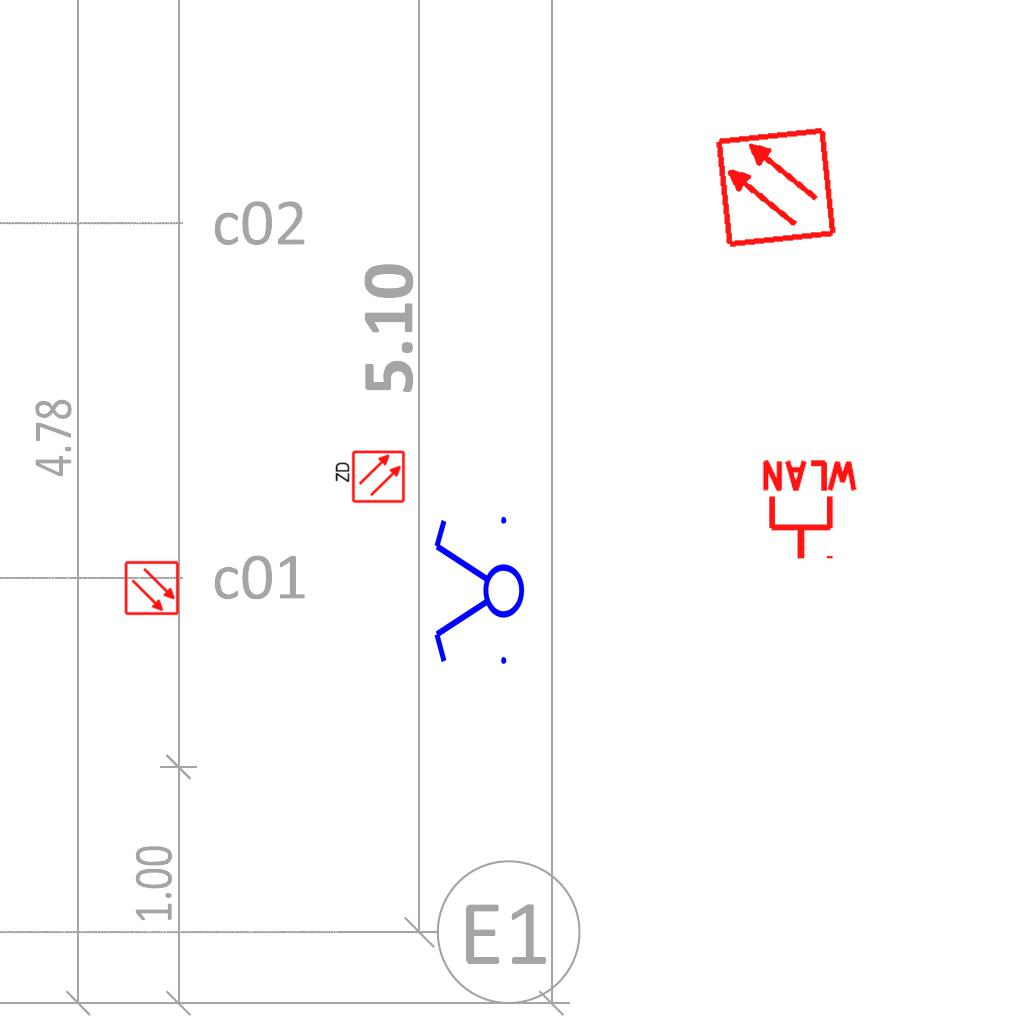RMO_Rauchmelder_optischer: (713, 125, 838, 250), (124, 560, 180, 616)
Serienschalter: (430, 508, 526, 676)
WLAN: (758, 458, 862, 563)
ZD_Melder_in_Zwischendecke_mit_Revisionsoeffnung_mind_40_x_40_cm: (332, 449, 406, 506)
